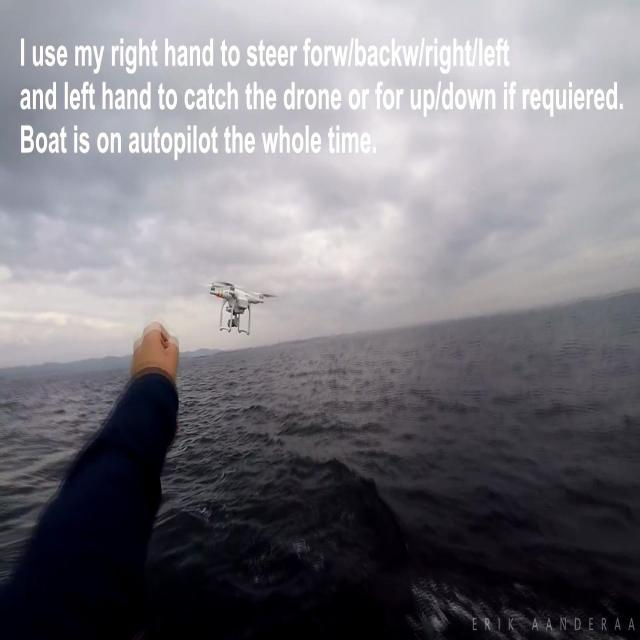Drone_FW: (208, 279, 276, 336)
